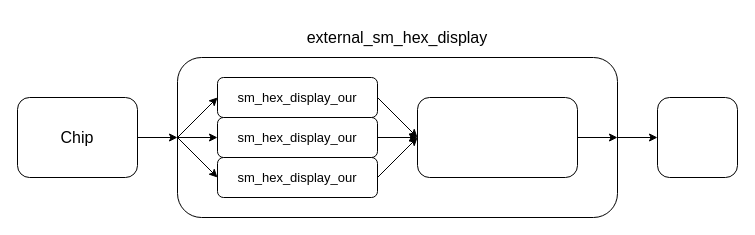
Some shapes in this 755 by 235 pixel diagram are drawn without their labels. The shapes that lost their labels are listed below. From the top down, each one's box as (x1, y1, x2, y2) in pixels, then its label:
(416, 96, 578, 178): sm_hex_display_digit
(656, 96, 738, 178): Display
